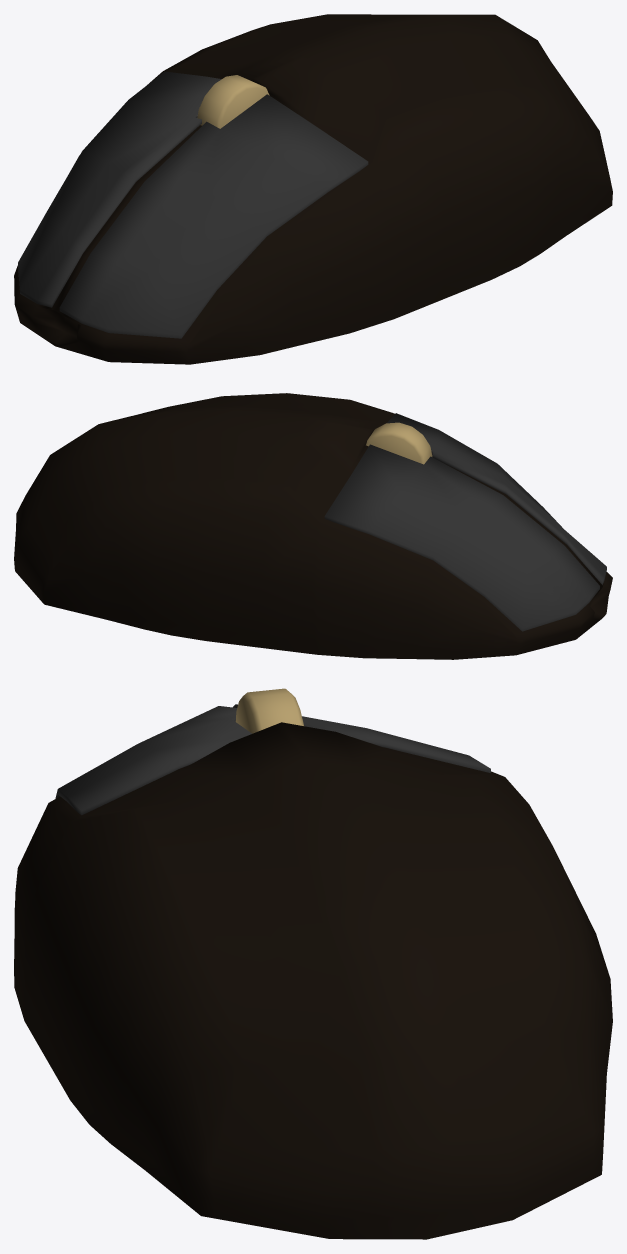
Rendered from mouse2.fbx.
3 views of the same model, one above another, from view 1: azimuth 30°, elevation 25°; view 2: azimuth 150°, elevation 25°; view 3: azimuth 270°, elevation 25° (orthographic). The views are drawn at different scales.
Parts seen in each view (by area): view 1: PC_Mouse; view 2: PC_Mouse; view 3: PC_Mouse.
Boxes of the visible parts, x1=… form: PC_Mouse: x1=14, y1=14, x2=612, y2=364; PC_Mouse: x1=14, y1=393, x2=612, y2=659; PC_Mouse: x1=14, y1=688, x2=612, y2=1239.
Size of the model in its own units: 31.76 by 9.67 by 19.07.
